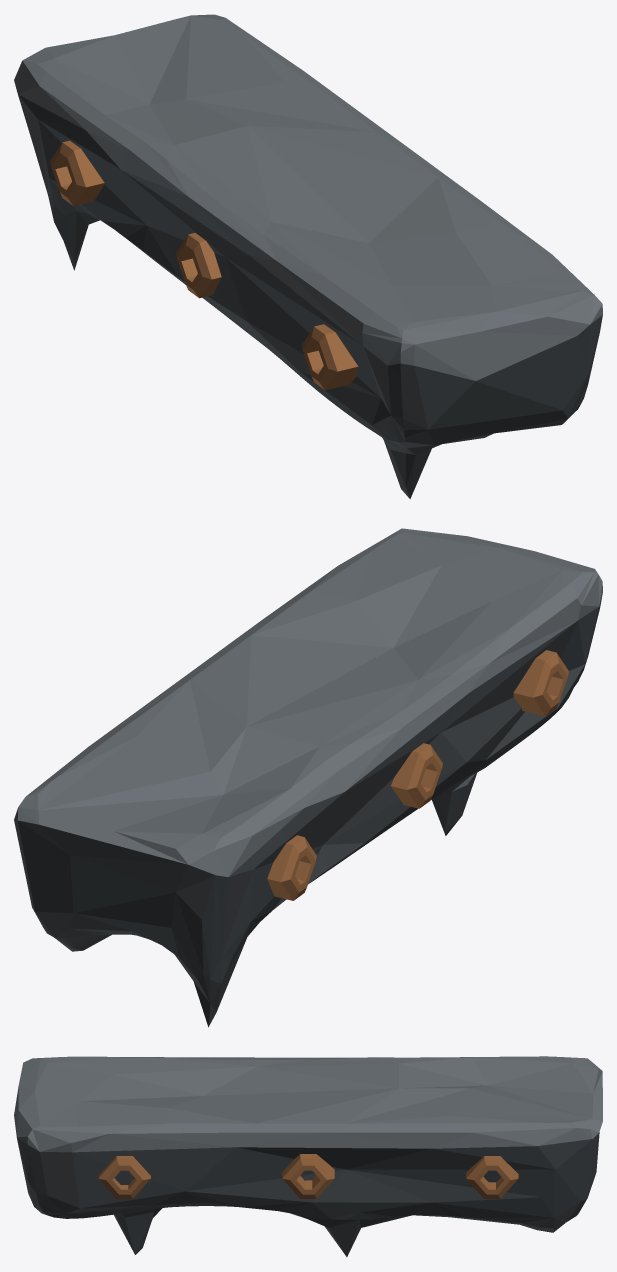
The model's file is geo_horiz_movPlat_2x6.fbx.
The picture shows the model from 3 angles, top to bottom: view 1: azimuth 30°, elevation 25°; view 2: azimuth 150°, elevation 25°; view 3: azimuth 270°, elevation 25°; orthographic projection. The views are drawn at different scales.
Parts seen in each view (by area): view 1: geo_horiz_movPlat; view 2: geo_horiz_movPlat; view 3: geo_horiz_movPlat.
Part boxes in pixels (x1,y1,x2,y2): geo_horiz_movPlat: [14, 14, 602, 498]; geo_horiz_movPlat: [14, 528, 602, 1027]; geo_horiz_movPlat: [14, 1056, 602, 1256].
Size of the model in its own units: 2.18 by 2.06 by 6.33.
